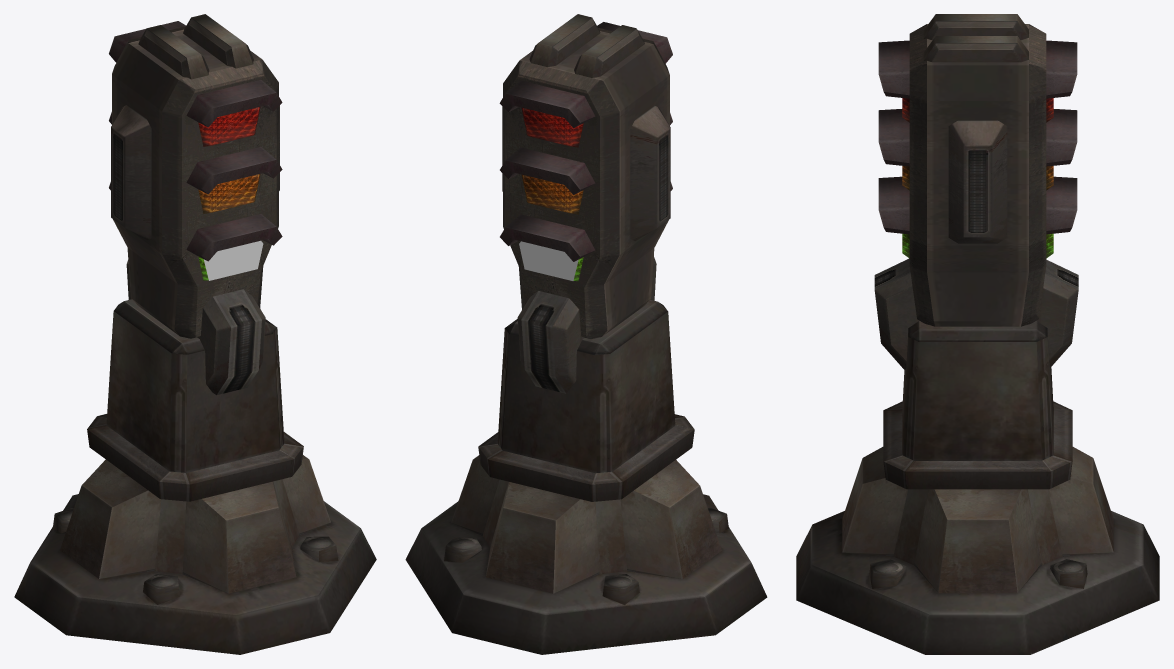
Rendered from trafficsignal_00.fbx.
3 views of the same model, side by side, from view 1: azimuth 30°, elevation 25°; view 2: azimuth 150°, elevation 25°; view 3: azimuth 270°, elevation 25° (orthographic).
Visible parts, largest first — view 1: Geoset_1, Geoset_0; view 2: Geoset_1, Geoset_0; view 3: Geoset_1.
Part boxes in pixels (x1,y1,x2,y2): Geoset_1: (14,14,376,654); Geoset_0: (203,240,263,280); Geoset_1: (405,14,767,654); Geoset_0: (519,241,578,280); Geoset_1: (796,14,1159,654).
Size of the model in its own units: 0.7471 by 1.25 by 0.7471.
1 material, 1 textured.
